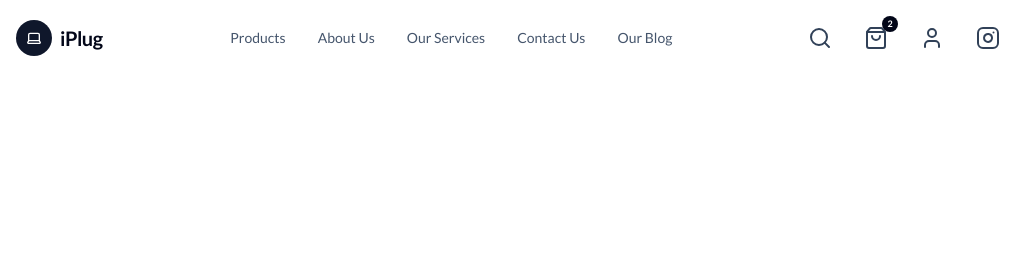
Navbar › hides the Dashboard entry for customer accounts
The width and height of the screenshot is (1016, 273).
Click the button named "account".
click(932, 38)  # box [912, 18, 952, 58]
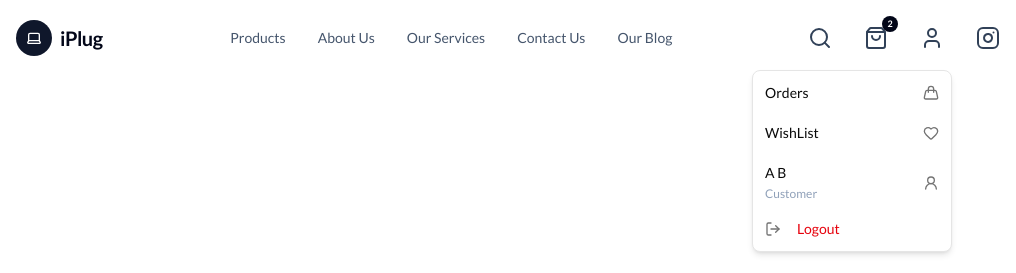
Check: the menu item "Orders" is shown, box [765, 84, 939, 101]
